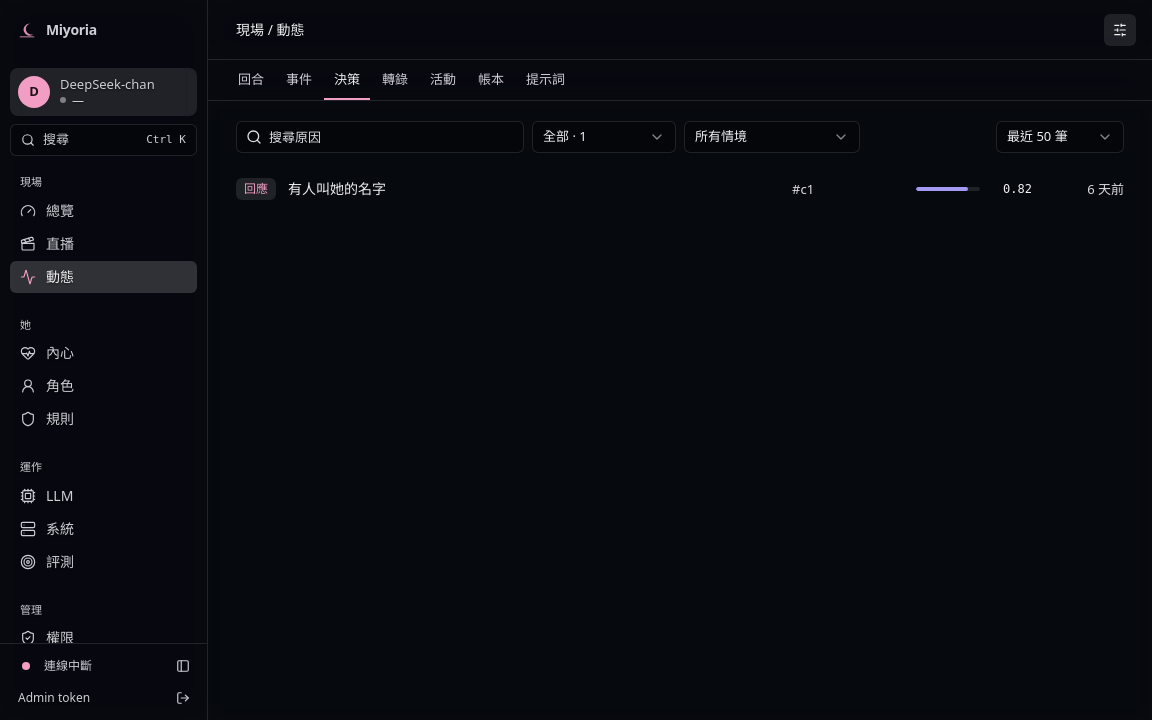
Test: Activity: the prompt of each turn › shows the outcome and the prompt inside a decision, too
The width and height of the screenshot is (1152, 720).
Click the button "回應 有人叫她的名字 #c1 0.82 6 天前".
click(256, 189)  # box top-left (236, 169), bottom-right (1124, 209)
(page scrolled)
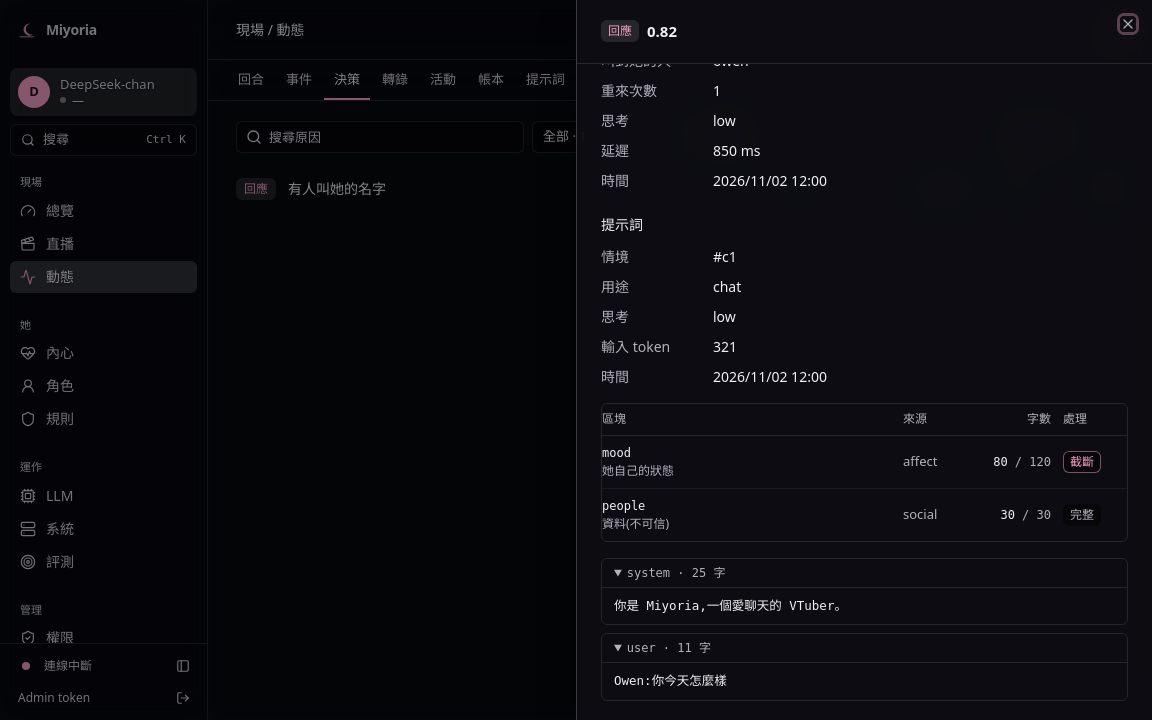
Expected: the table named "提示詞區塊" is shown, top-left (602, 404), bottom-right (1127, 541)
